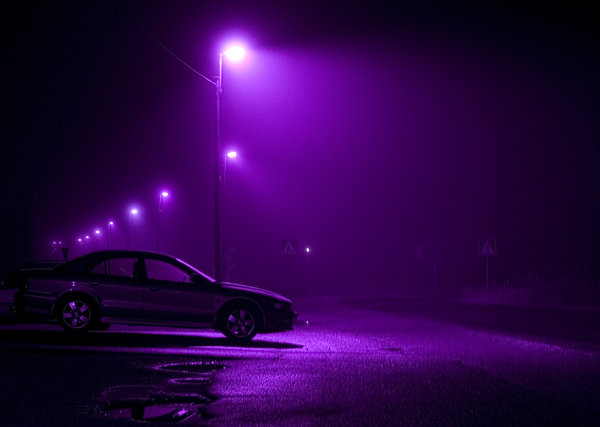car: (9, 243, 303, 350)
